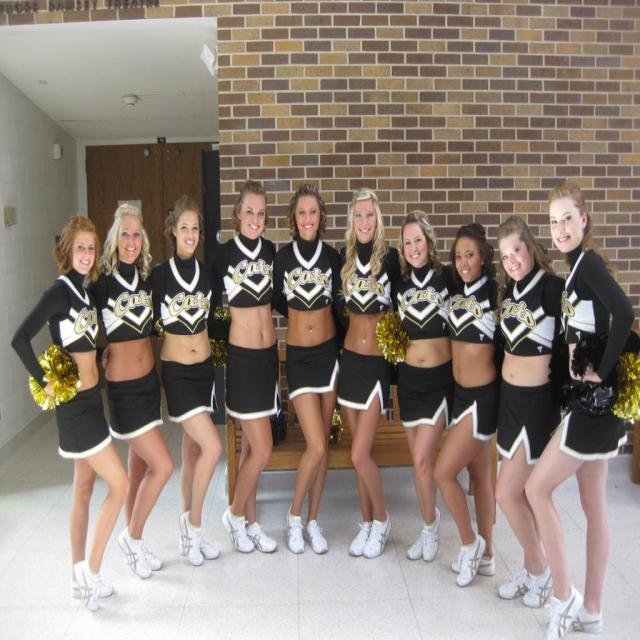Face: (542, 192, 591, 265), (451, 228, 493, 290), (346, 197, 387, 259), (113, 204, 148, 275), (397, 220, 441, 274), (289, 197, 332, 249), (168, 201, 205, 261), (493, 228, 533, 282), (69, 224, 96, 285), (239, 191, 272, 234)
